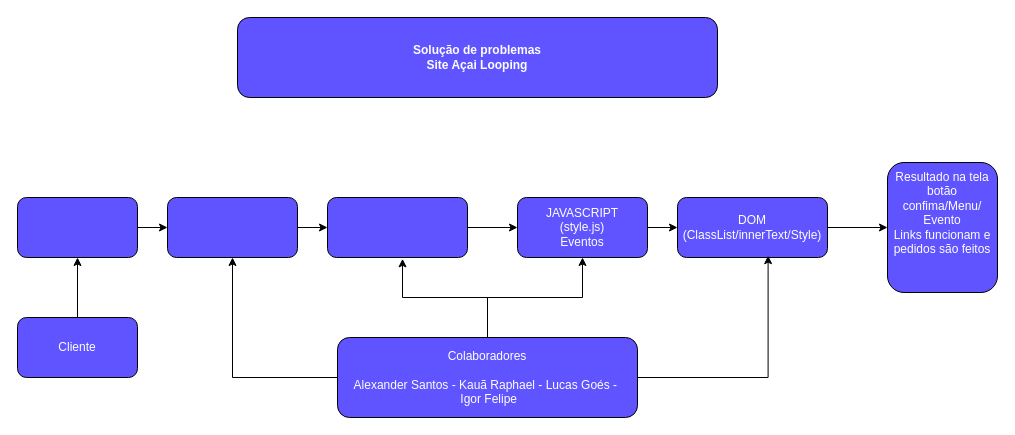
This 1015x435 diagram has some shape labels left out. Each missing label, with the box of its shape:
CSS (header.css/main.css/ footer.css) Estilo do Site: (326, 196, 468, 258)
HTML (index.html, estrutura , ID e class): (166, 196, 298, 258)
Usuário (clica/digita/envia): (16, 196, 138, 258)
